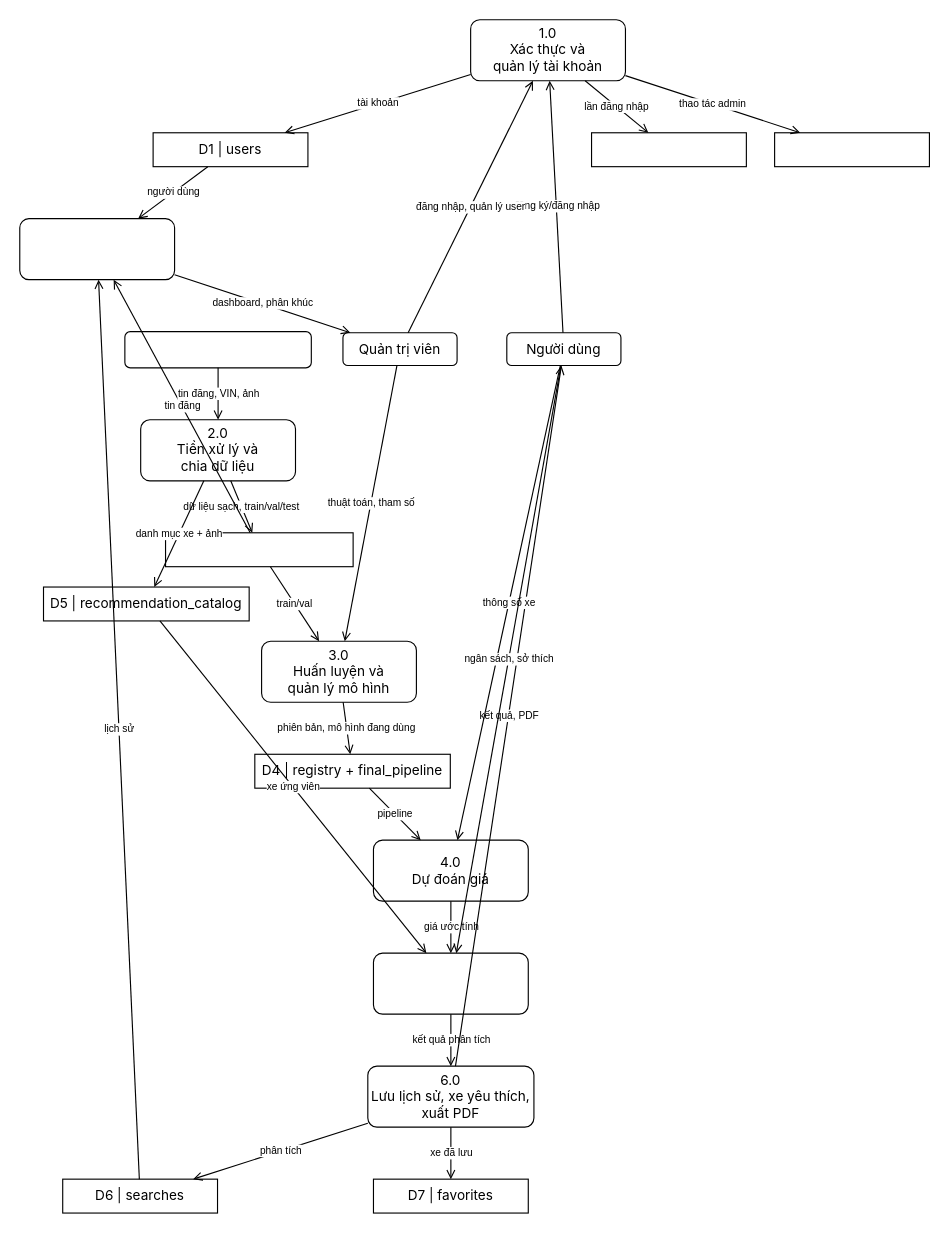
Image size: 949x1233. Some labels were removed from this diagram. Each missing label, with the centre of its shape:
"5.0 Gợi ý xe" goes at [450,983].
"7.0 Thống kê và phân khúc K-Means" goes at [97,249].
"D2 | login_history" goes at [668,149].
"D3 | vehicles_filled + splits" goes at [258,549].
"D8 | audit_log" goes at [851,149].
"Nguồn dữ liệu (Kaggle, NHTSA, Wikimedia)" goes at [217,349].
